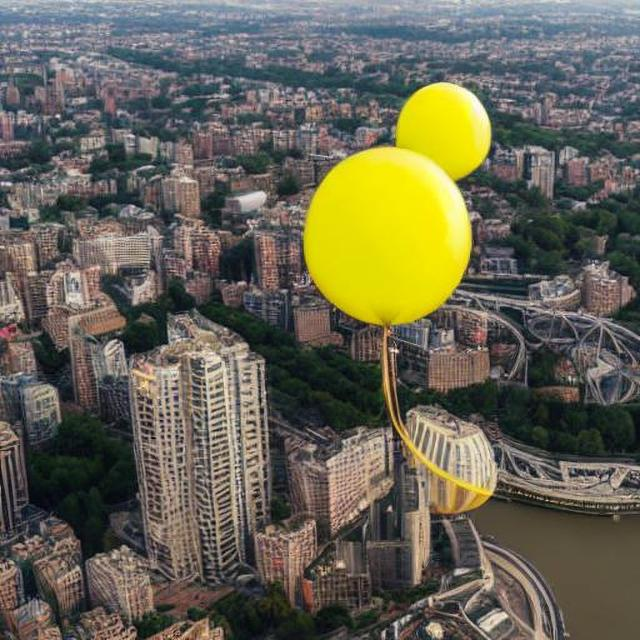balloon: (289, 104, 483, 332), (386, 77, 494, 186)
